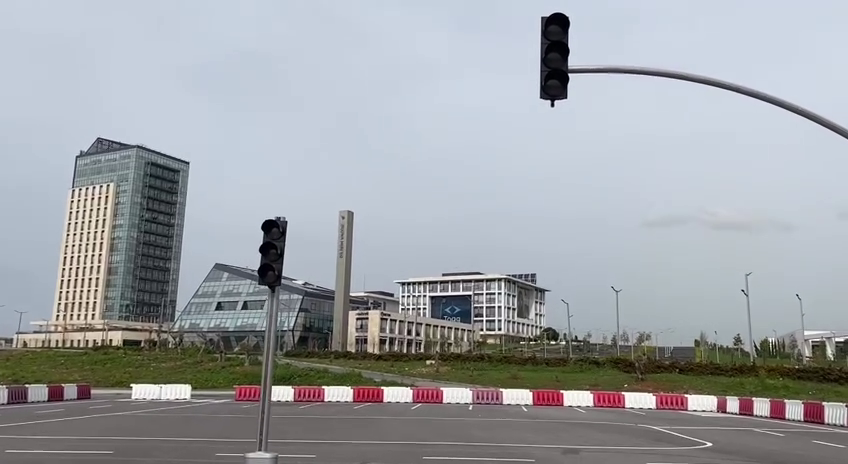trafficLight: (534, 8, 573, 109), (252, 213, 291, 291)
